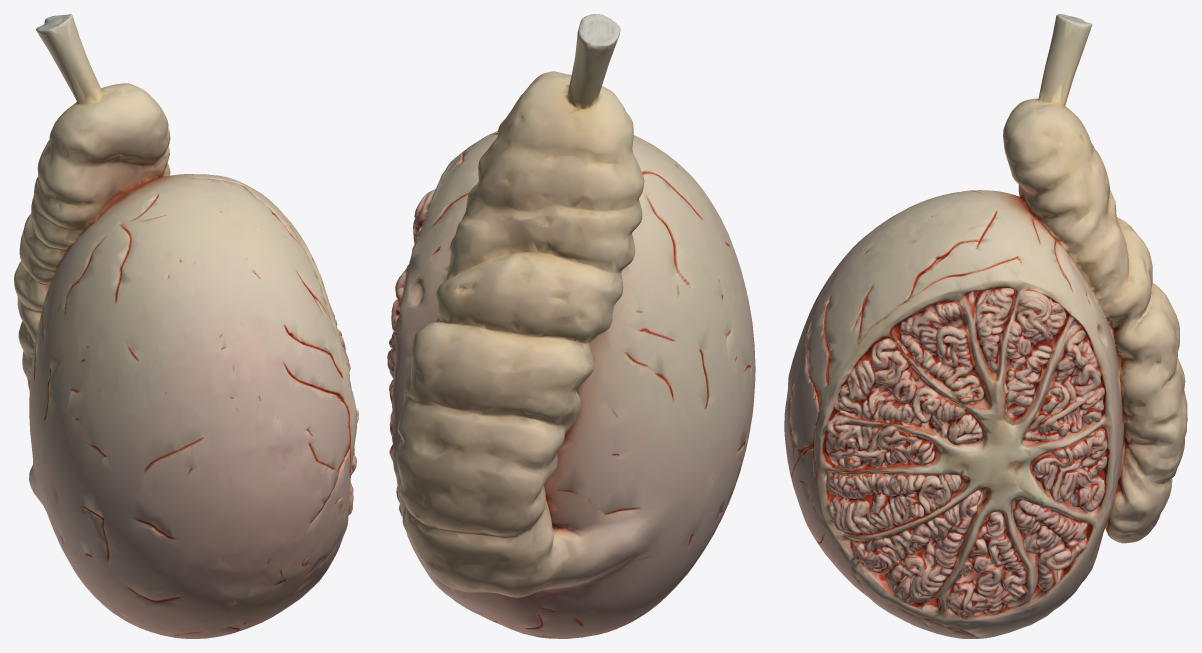
File: testis.glb
The picture shows the model from 3 angles, left to right: view 1: azimuth 30°, elevation 25°; view 2: azimuth 150°, elevation 25°; view 3: azimuth 270°, elevation 25°; orthographic projection. The views are drawn at different scales.
Visible parts, largest first — view 1: tripo_node_106351d9-48a0-43b7-b002-8ee4371ae2a4; view 2: tripo_node_106351d9-48a0-43b7-b002-8ee4371ae2a4; view 3: tripo_node_106351d9-48a0-43b7-b002-8ee4371ae2a4.
Part boxes in pixels (x1,y1,x2,y2): tripo_node_106351d9-48a0-43b7-b002-8ee4371ae2a4: [14, 14, 358, 638]; tripo_node_106351d9-48a0-43b7-b002-8ee4371ae2a4: [387, 14, 755, 638]; tripo_node_106351d9-48a0-43b7-b002-8ee4371ae2a4: [784, 14, 1187, 638].
Size of the model in its own units: 0.4551 by 0.9999 by 0.6401.
1 material, 1 textured.
